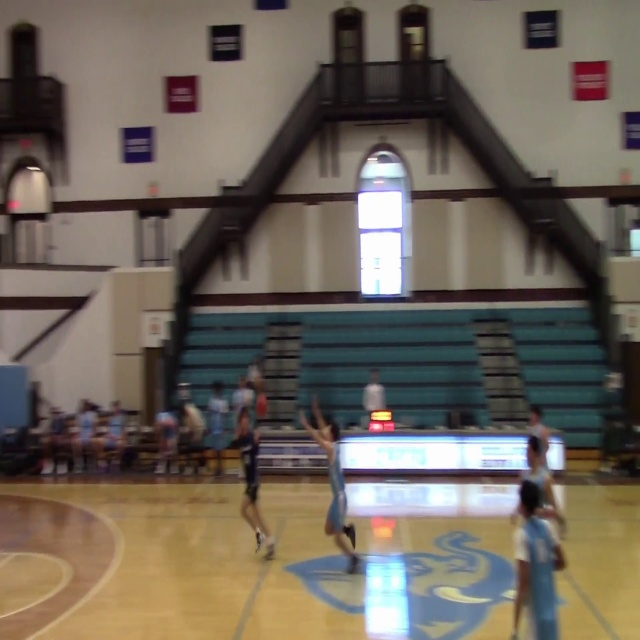Basketball: (255, 393, 268, 417)
